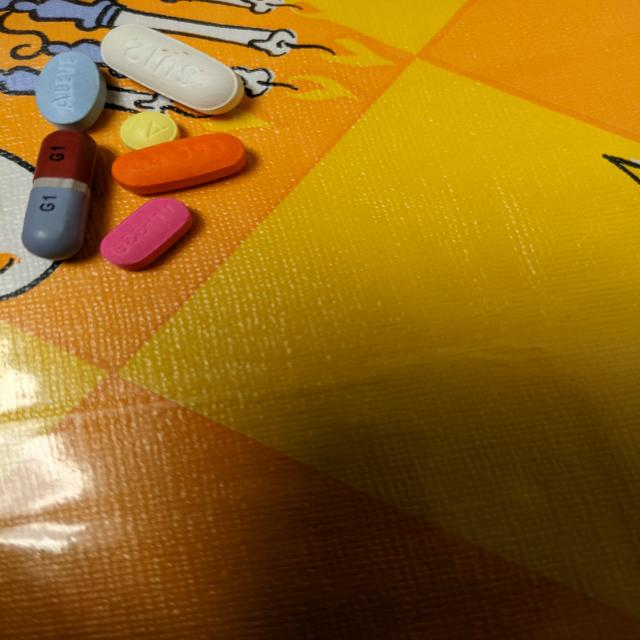non-organic waste: (100, 24, 245, 116), (21, 128, 98, 260), (110, 132, 248, 195), (99, 197, 194, 270), (34, 50, 108, 134), (118, 110, 182, 152)
